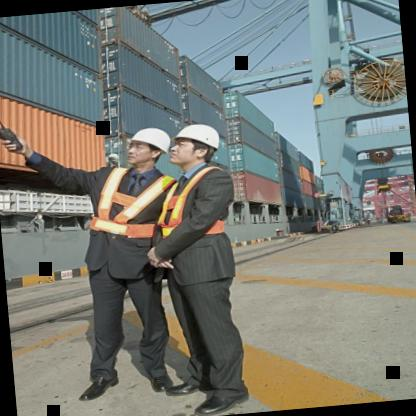helmet: (162, 116, 234, 170), (122, 120, 178, 174)
